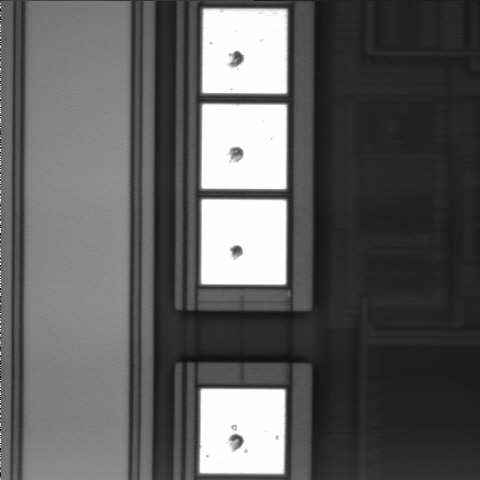pad: (201, 104, 287, 189), (201, 199, 286, 285), (200, 389, 285, 474), (202, 9, 287, 93)
